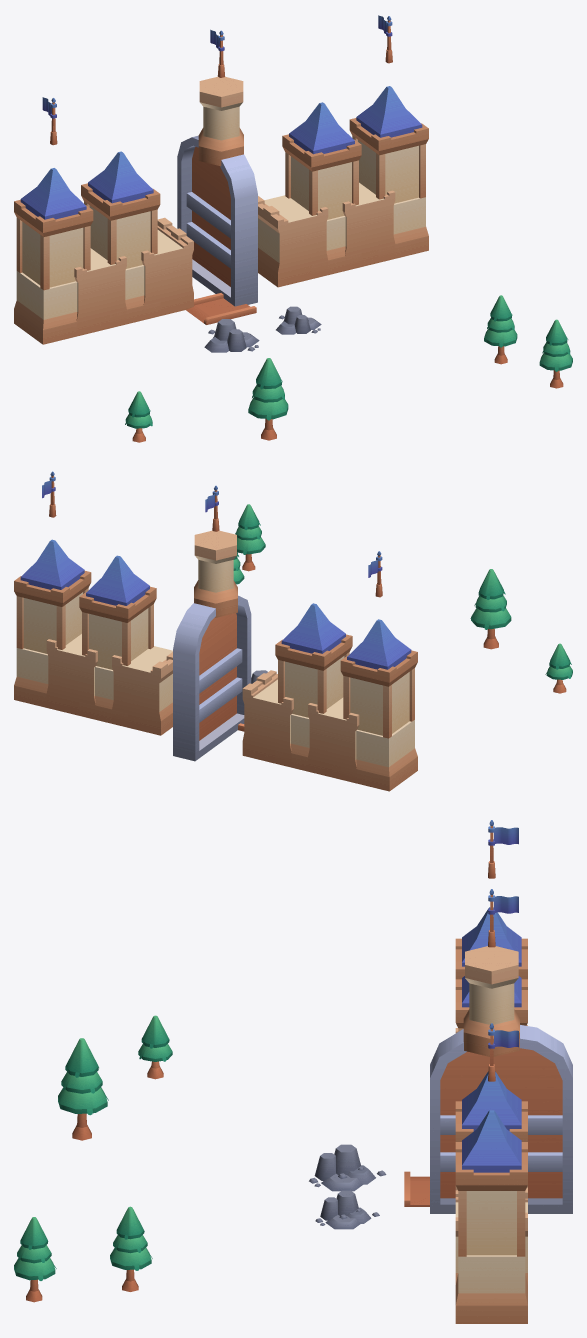
Rendered from animation.glb.
3 renders of one model, top to bottom at view 1: azimuth 30°, elevation 25°; view 2: azimuth 150°, elevation 25°; view 3: azimuth 270°, elevation 25°, orthographic. The views are drawn at different scales.
Visible parts, largest first — view 1: gate, wall.002, wall.001, tower-square-mid, tower-square-base, tower-hexagon-base, wall, wall.003, tower-square-mid.002, tower-square-top-roof.002, tower-square-top-roof, tower-square-top-roof.001 (+13 smaller); view 2: gate, wall.002, wall.001, tower-square-base, tower-square-mid, wall, tower-hexagon-base, wall.003, tower-square-top-roof, tower-square-top-roof.001, tower-square-top-roof.003, tower-square-top-roof.002 (+9 smaller); view 3: gate, tower-hexagon-base, tower-square-base.003, tower-square-top-roof.003, tower-square-mid.003, tower-square-top-roof.002, tree-large, tower-square-top-roof, rocks-large, tree-large.001, tree-large.002, rocks-large.001 (+7 smaller).
Part boxes in pixels (x1,y1,x2,y2): gate: (177,135,257,306); wall.002: (258,195,328,287); wall.001: (141,217,193,319); tower-square-mid: (16,218,90,290); tower-square-base: (14,271,93,344); tower-hexagon-base: (198,76,243,166); wall: (74,248,126,336); wall.003: (342,182,395,270); tower-square-mid.002: (285,152,358,219); tower-square-top-roof.002: (282,102,361,171); tower-square-top-roof: (14,168,93,236); tower-square-top-roof.001: (81,151,160,220); gate: (173,595,251,761); wall.002: (112,646,172,735); wall.001: (242,670,293,767); tower-square-base: (340,720,417,791); tower-square-mid: (343,668,414,738); wall: (308,697,359,783); tower-hexagon-base: (194,530,237,617); wall.003: (46,634,97,719); tower-square-top-roof: (340,619,417,686); tower-square-top-roof.001: (275,603,352,670); tower-square-top-roof.003: (14,539,91,606); tower-square-top-roof.002: (79,555,156,622); gate: (430,1025,572,1213); tower-hexagon-base: (463,946,519,1056); tower-square-base.003: (455,1255,527,1323); tower-square-top-roof.003: (455,1110,527,1190); tower-square-mid.003: (458,1191,525,1256); tower-square-top-roof.002: (455,1071,527,1141); tree-large: (58,1038,108,1140); tower-square-top-roof: (455,907,527,979); rocks-large: (309,1144,386,1191); tree-large.001: (110,1206,152,1291); tree-large.002: (14,1217,56,1302); rocks-large.001: (315,1190,379,1229).
Size of what is drawn, in the model's own units: 12.62 by 7.3 by 11.63.
28 materials, 28 textured.
